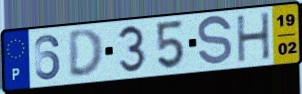3: (116, 23, 149, 77)
5: (154, 17, 187, 72)
6: (33, 34, 63, 82)
D: (67, 27, 106, 79)
H: (234, 10, 273, 65)
S: (196, 13, 235, 69)
